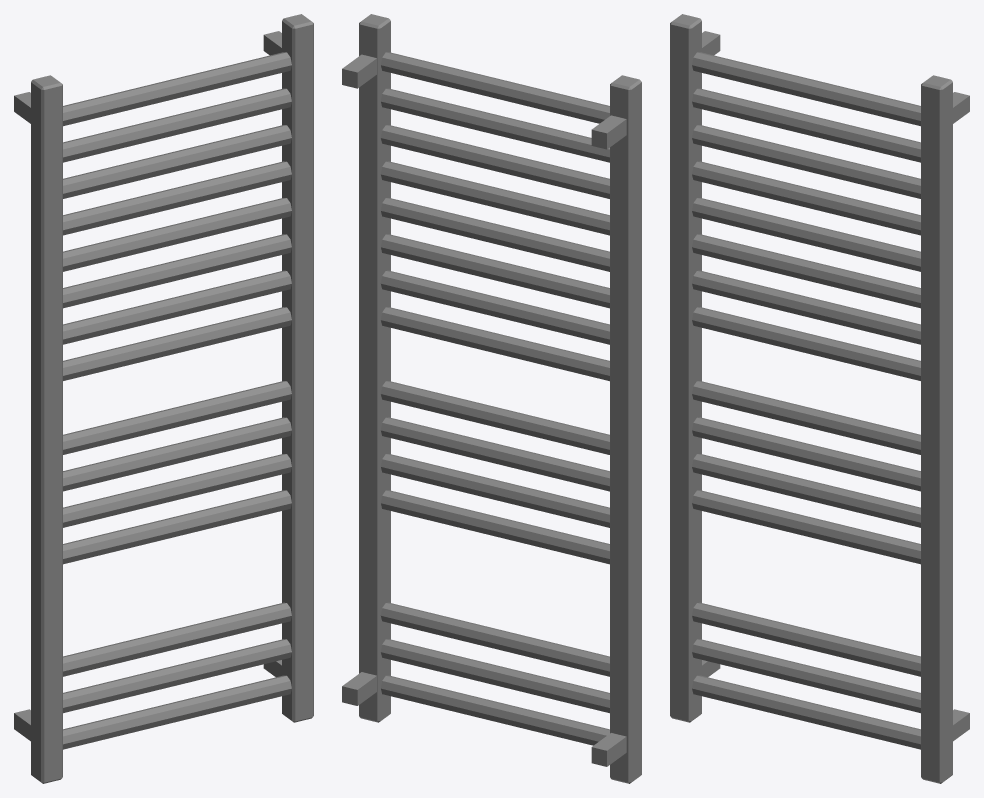
File: Prop_TowelRails_02.fbx
3 renders of one model, left to right at view 1: azimuth 30°, elevation 25°; view 2: azimuth 150°, elevation 25°; view 3: azimuth 330°, elevation 25°, orthographic.
Visible parts, largest first — view 1: Prop_TowelRails_02; view 2: Prop_TowelRails_02; view 3: Prop_TowelRails_02.
Part boxes in pixels (box(x1,y1,x2,y2)): Prop_TowelRails_02: box(14, 14, 313, 783); Prop_TowelRails_02: box(342, 14, 641, 783); Prop_TowelRails_02: box(670, 14, 969, 783).
Size of the model in its own units: 40.16 by 98.06 by 8.19.
